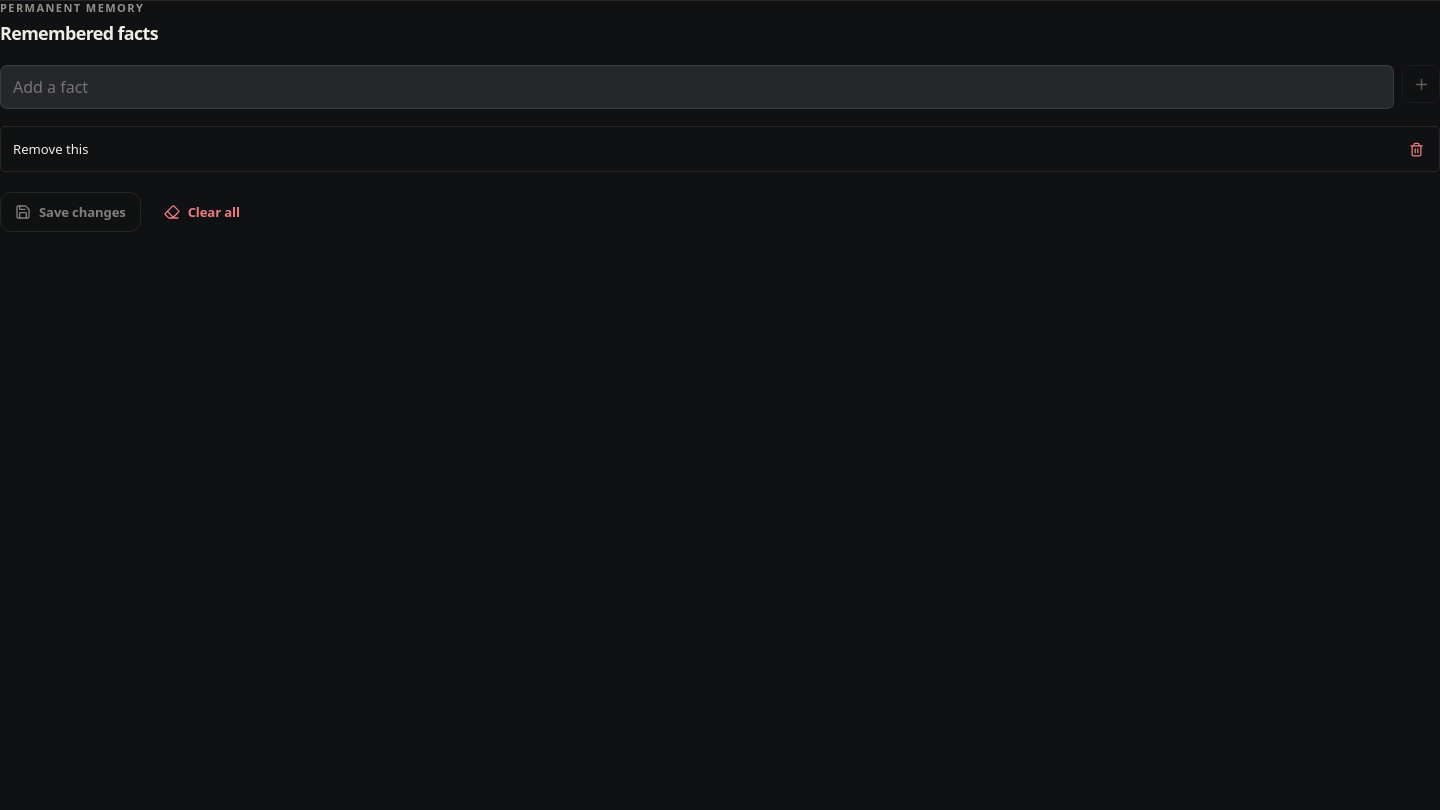
Test case: MemoryPanel › clears the draft after clear succeeds
Step 1. Click the button "Clear all" → [202, 212], box [149, 192, 255, 232]
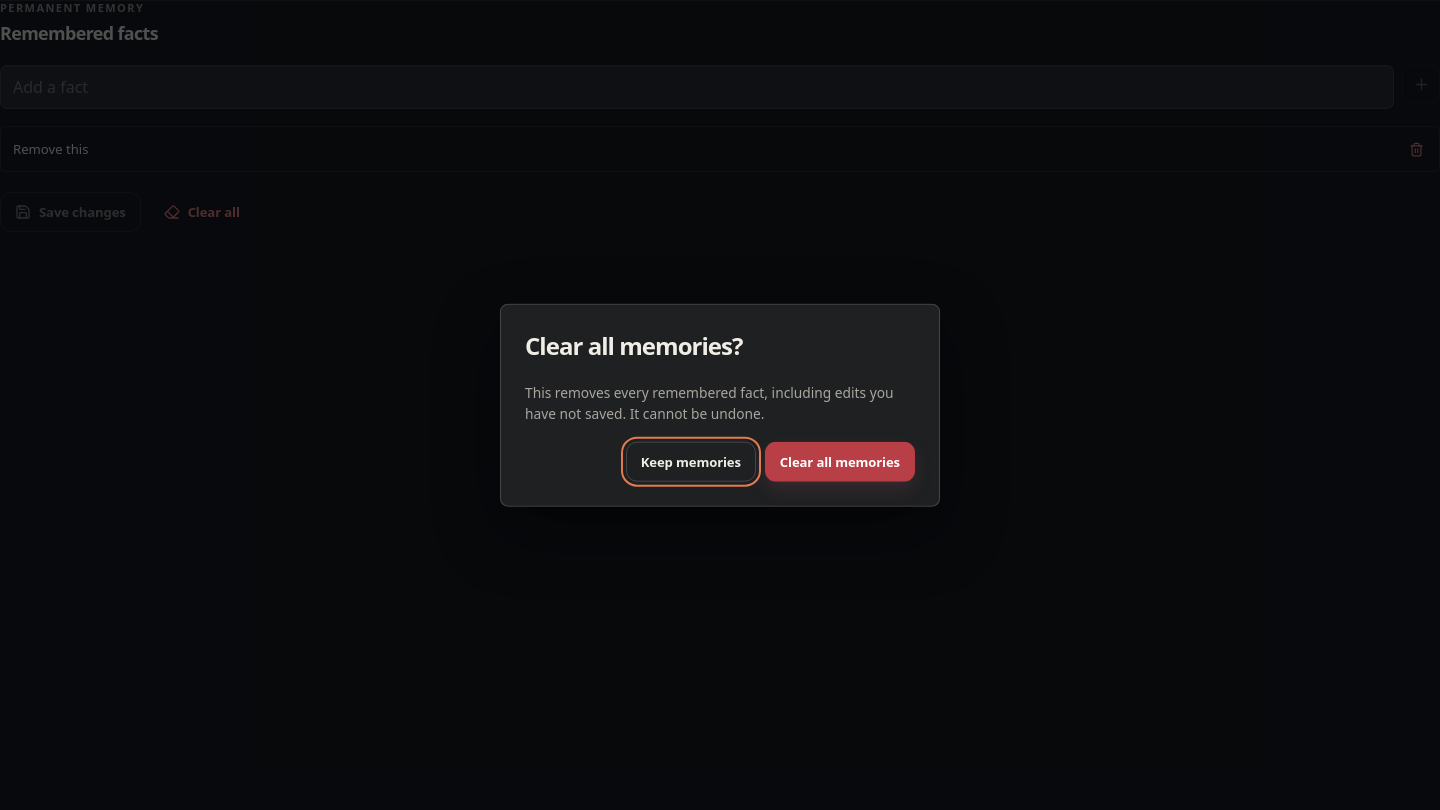
Step 2. Click the button "Clear all memories" → [840, 461], box [765, 441, 915, 481]
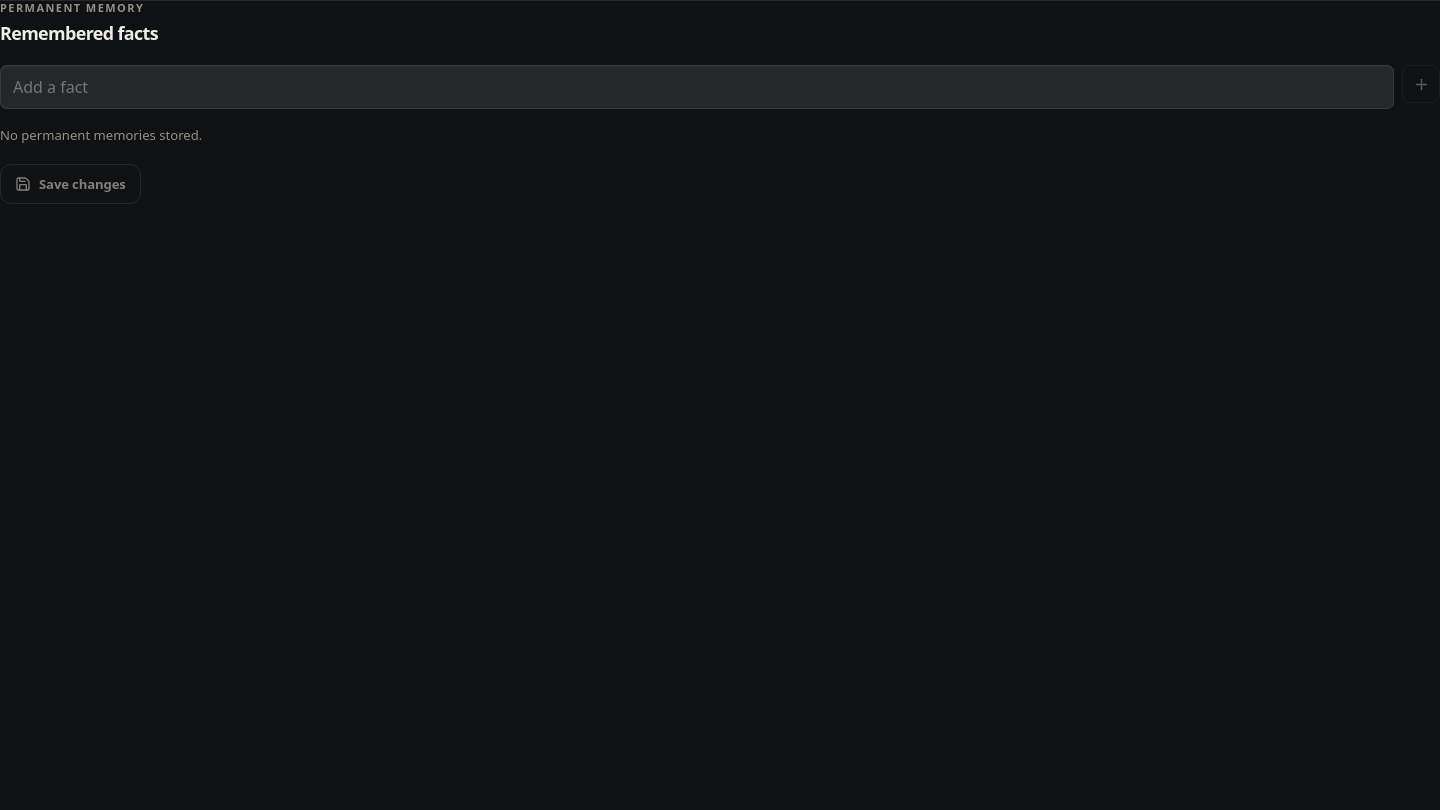
Check: the text "No permanent memories stored." is shown, box [0, 126, 202, 144]
Check: the dialog is gone
